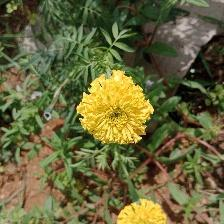marigold: (78, 68, 154, 152), (116, 197, 168, 224)
